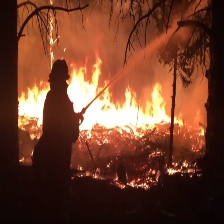fire: (19, 63, 184, 129), (84, 164, 204, 191), (42, 2, 61, 58)
smoke: (67, 3, 204, 59)
